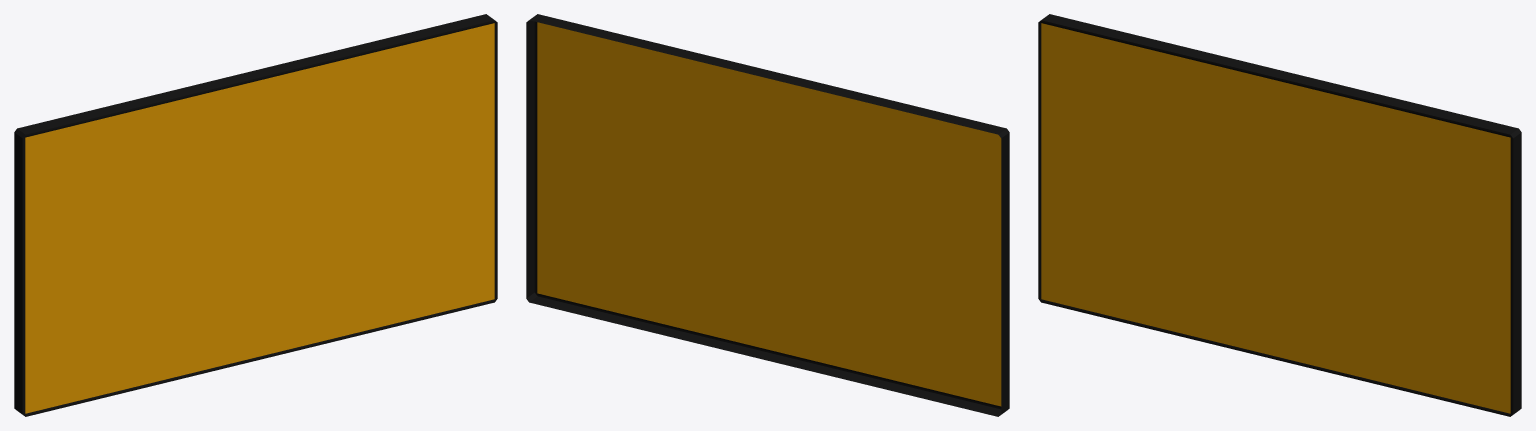
The model's file is Monitor.fbx.
The picture shows the model from 3 angles, left to right: view 1: azimuth 30°, elevation 25°; view 2: azimuth 150°, elevation 25°; view 3: azimuth 330°, elevation 25°; orthographic projection.
Parts seen in each view (by area): view 1: Monitor; view 2: Monitor; view 3: Monitor.
Part boxes in pixels (x1=…): Monitor: x1=14, y1=14, x2=497, y2=416; Monitor: x1=526, y1=14, x2=1009, y2=416; Monitor: x1=1038, y1=14, x2=1521, y2=416.
Bounding box in the file's own units: 6.48 × 3.68 × 0.2.
